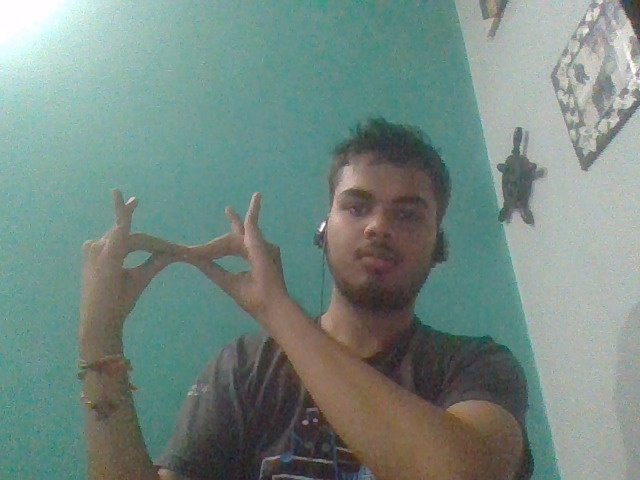family: (69, 186, 300, 316)
